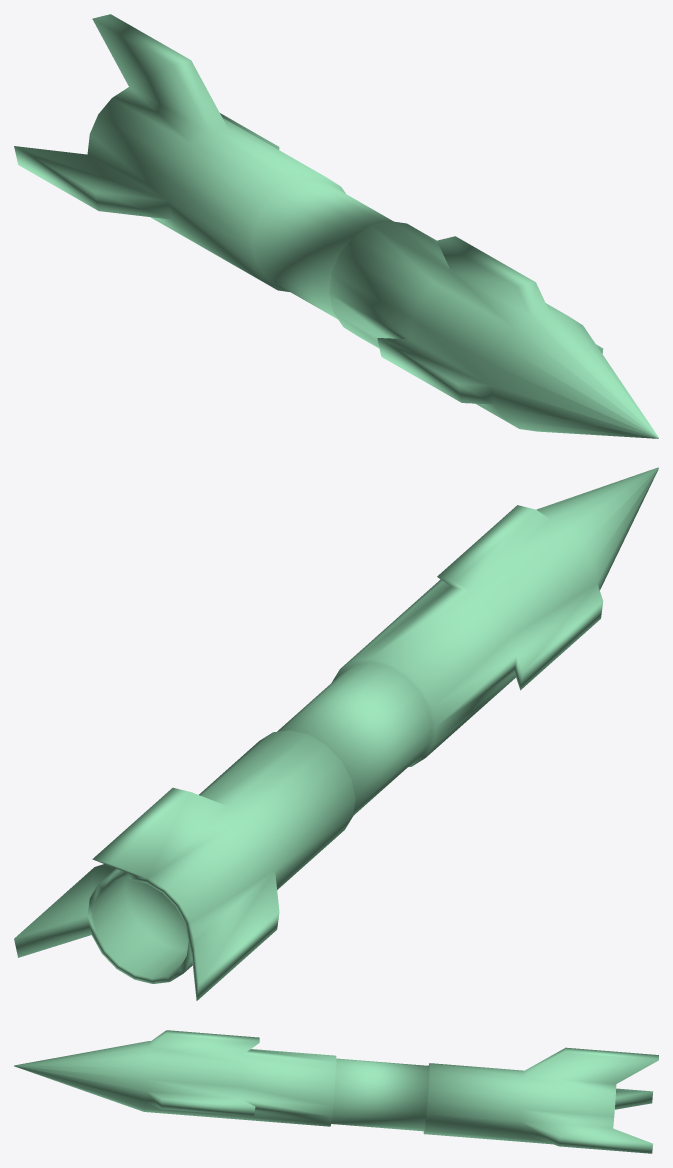
Rendered from RemoteMissileLoose.obj.
3 views of the same model, one above another, from view 1: azimuth 30°, elevation 25°; view 2: azimuth 150°, elevation 25°; view 3: azimuth 270°, elevation 25° (orthographic). The views are drawn at different scales.
Parts seen in each view (by area): view 1: Cylinder005; view 2: Cylinder005; view 3: Cylinder005.
Boxes of the visible parts, x1,y1,x2,y2 form: Cylinder005: [14, 14, 658, 438]; Cylinder005: [14, 467, 658, 1000]; Cylinder005: [14, 1030, 658, 1153].
Bounding box in the file's own units: 7.1 × 7.13 × 37.05.
